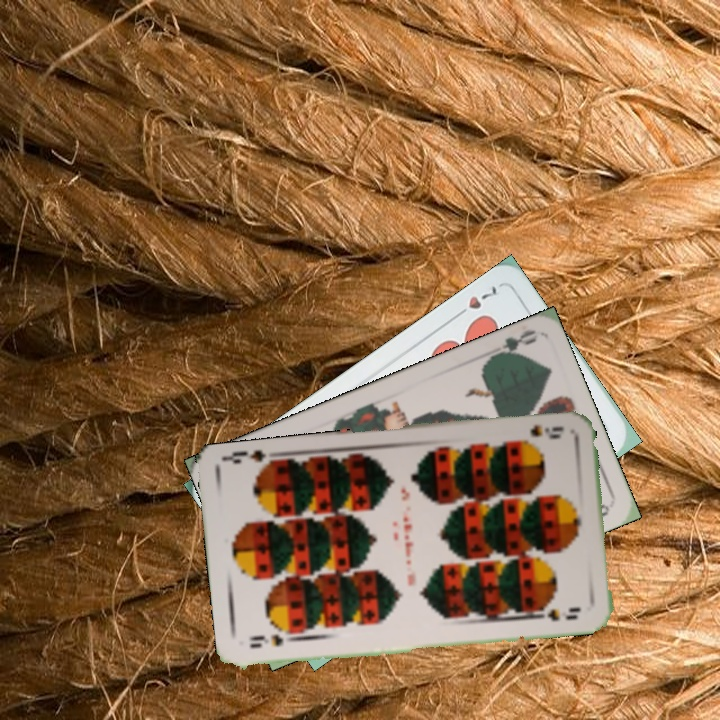GO: (484, 325, 539, 364)
H7: (450, 281, 500, 321)
S9: (526, 420, 566, 442), (245, 631, 285, 651)
